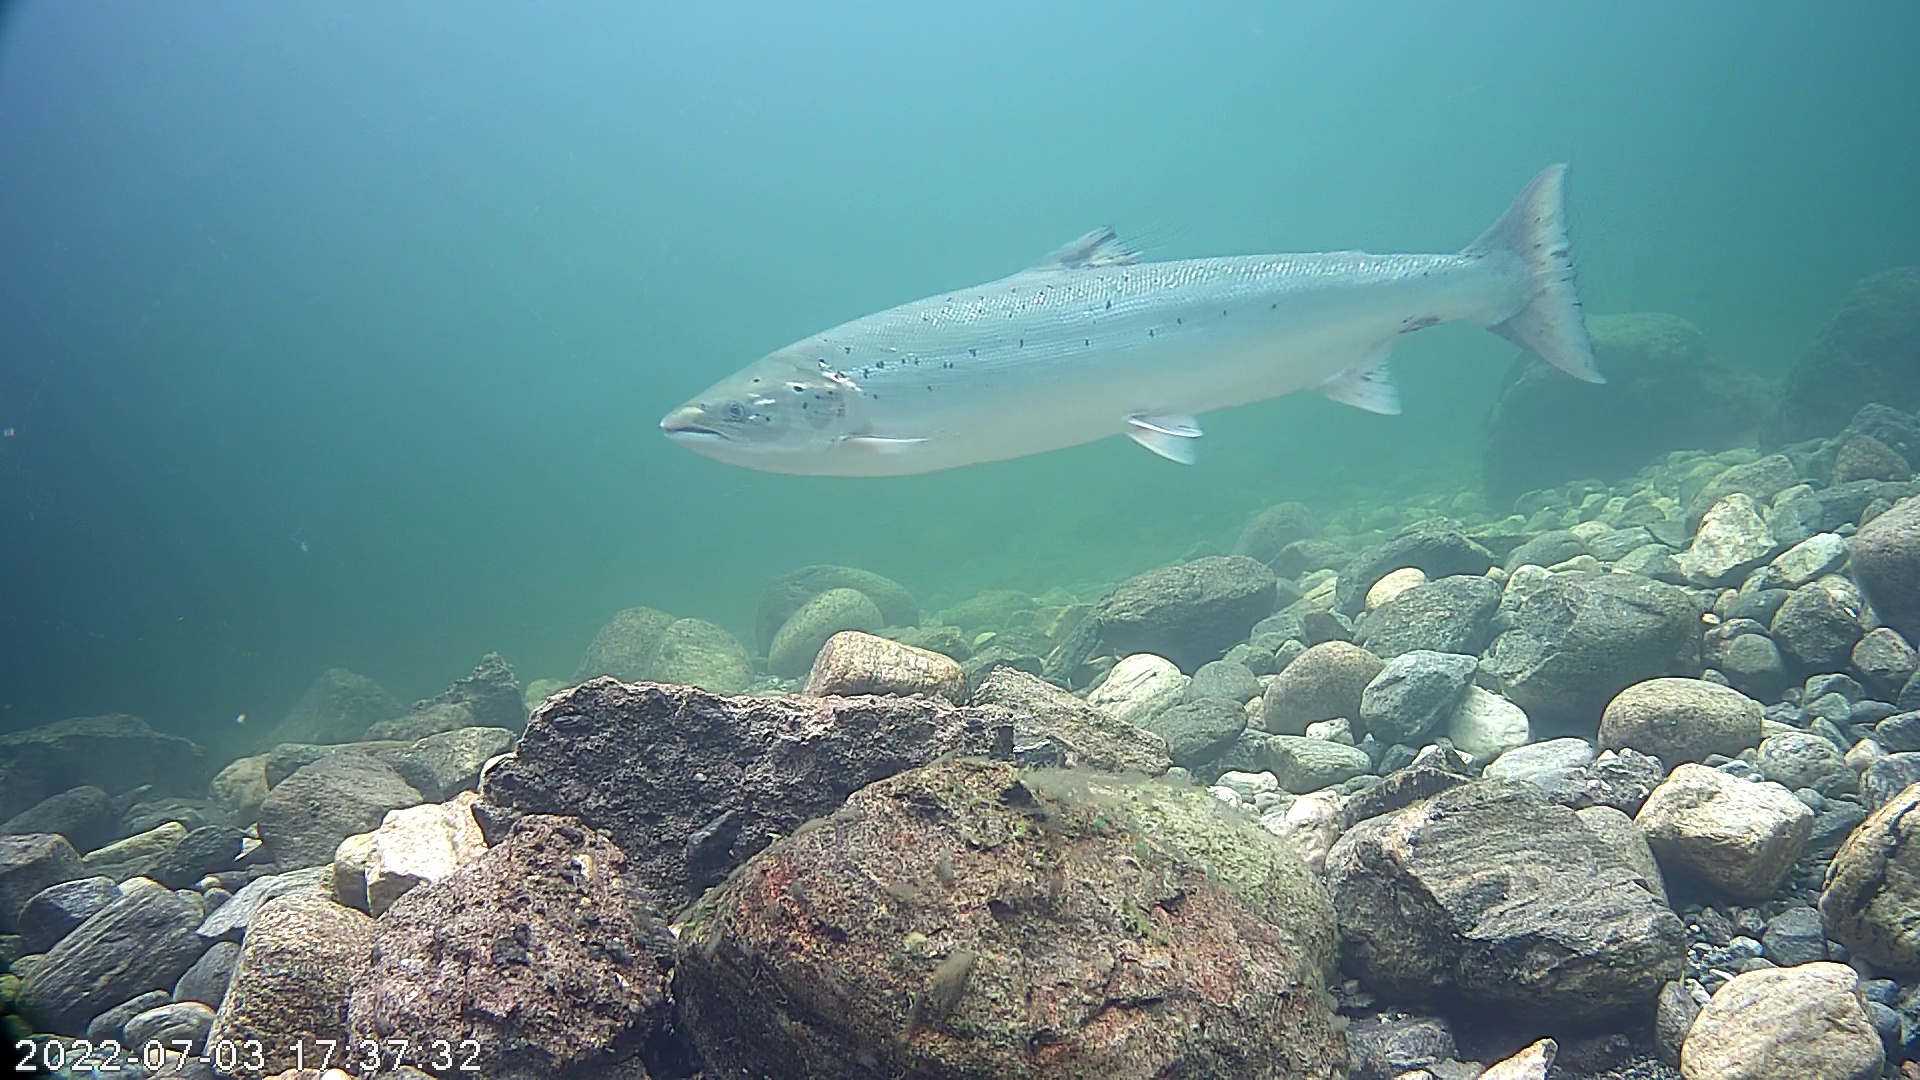salmon: (654, 154, 1613, 480)
